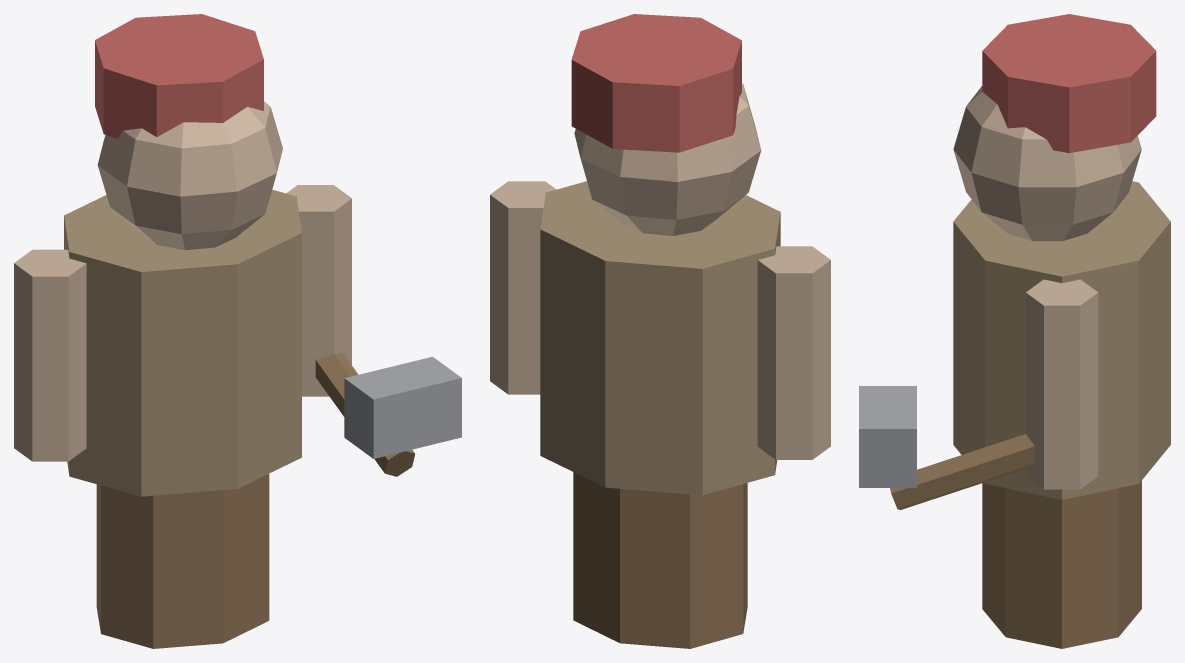
Rendered from human_peasant.glb.
3 renders of one model, left to right at view 1: azimuth 30°, elevation 25°; view 2: azimuth 150°, elevation 25°; view 3: azimuth 270°, elevation 25°, orthographic.
Visible parts, largest first — view 1: BodyMesh, HammerArmMesh; view 2: BodyMesh, HammerArmMesh; view 3: BodyMesh, HammerArmMesh.
Boxes of the visible parts, left/top/right/bottom form: BodyMesh: left=14, top=14, right=301, bottom=648; HammerArmMesh: left=286, top=185, right=461, bottom=476; BodyMesh: left=540, top=14, right=830, bottom=648; HammerArmMesh: left=490, top=181, right=556, bottom=394; BodyMesh: left=953, top=14, right=1170, bottom=648; HammerArmMesh: left=859, top=279, right=1098, bottom=509.
Size of the model in its own units: 0.5333 by 0.85 by 0.43.
